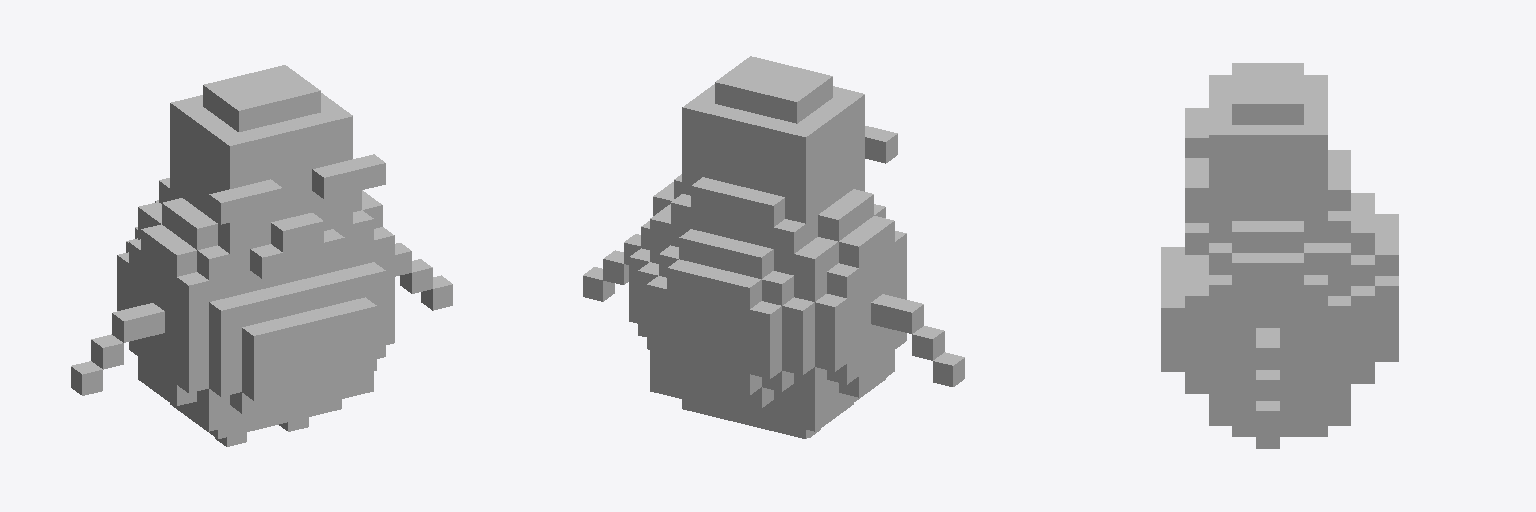
Rendered from bean boi - phat cen.obj.
3 renders of one model, left to right at view 1: azimuth 30°, elevation 25°; view 2: azimuth 150°, elevation 25°; view 3: azimuth 270°, elevation 25°, orthographic.
Parts seen in each view (by area): view 1: bean_boi_-_phat; view 2: bean_boi_-_phat; view 3: bean_boi_-_phat.
Boxes of the visible parts, x1,y1,x2,y2 form: bean_boi_-_phat: [71, 65, 452, 446]; bean_boi_-_phat: [583, 56, 964, 438]; bean_boi_-_phat: [1161, 63, 1398, 448].
Size of the model in its own units: 1.8 by 1.6 by 1.